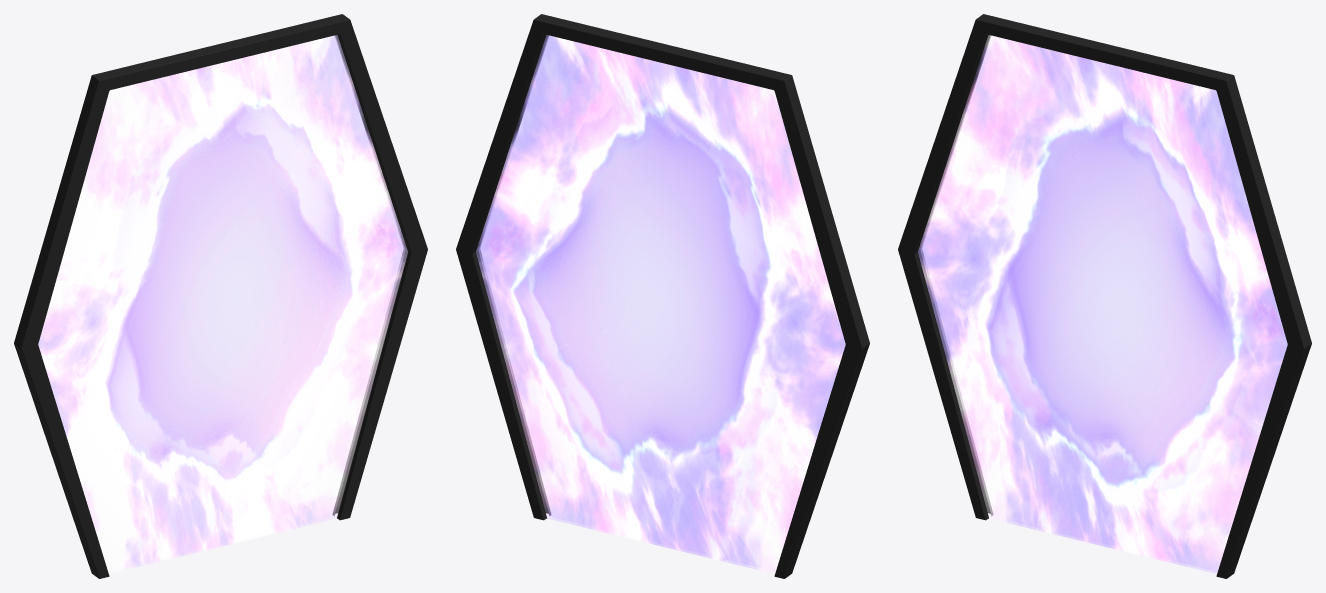
The model's file is portal.glb.
3 views of the same model, side by side, from view 1: azimuth 30°, elevation 25°; view 2: azimuth 150°, elevation 25°; view 3: azimuth 330°, elevation 25° (orthographic).
Parts seen in each view (by area): view 1: Portal; view 2: Portal; view 3: Portal.
Part boxes in pixels (x1,y1,x2,y2): Portal: (14,14,427,578); Portal: (456,14,869,578); Portal: (898,14,1311,578).
Bounding box in the file's own units: 3.64 × 4.27 × 0.123.
2 materials, 1 textured.
